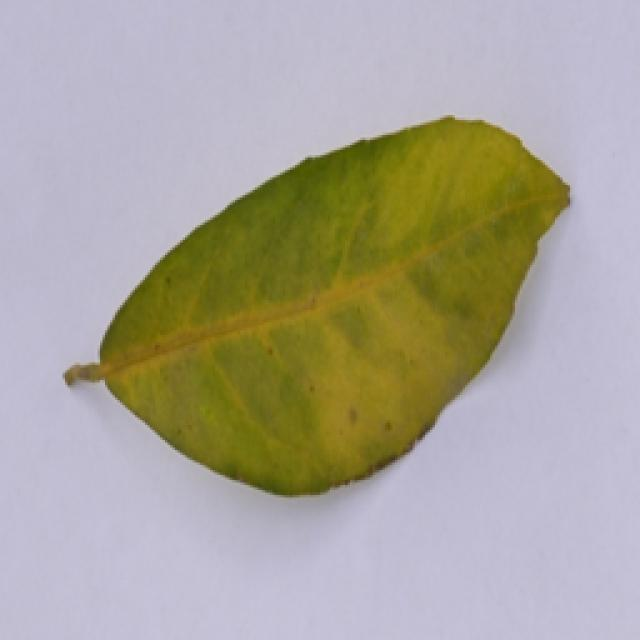greening: (45, 112, 592, 514)
